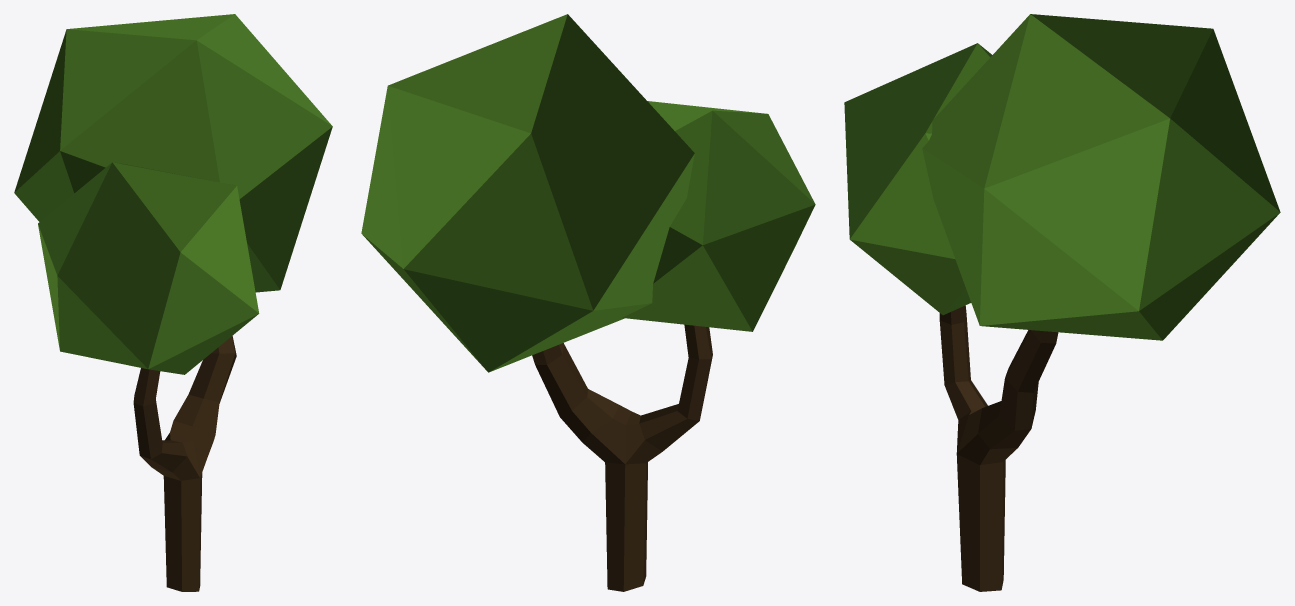
The model's file is tree 1.fbx.
3 renders of one model, left to right at view 1: azimuth 30°, elevation 25°; view 2: azimuth 150°, elevation 25°; view 3: azimuth 270°, elevation 25°, orthographic. The views are drawn at different scales.
Visible parts, largest first — view 1: Default001; view 2: Default001; view 3: Default001.
Boxes of the visible parts, x1=… form: Default001: x1=14, y1=14, x2=332, y2=591; Default001: x1=361, y1=14, x2=815, y2=591; Default001: x1=844, y1=14, x2=1280, y2=591.
Bounding box in the file's own units: 7.49 × 11.72 × 7.86.
